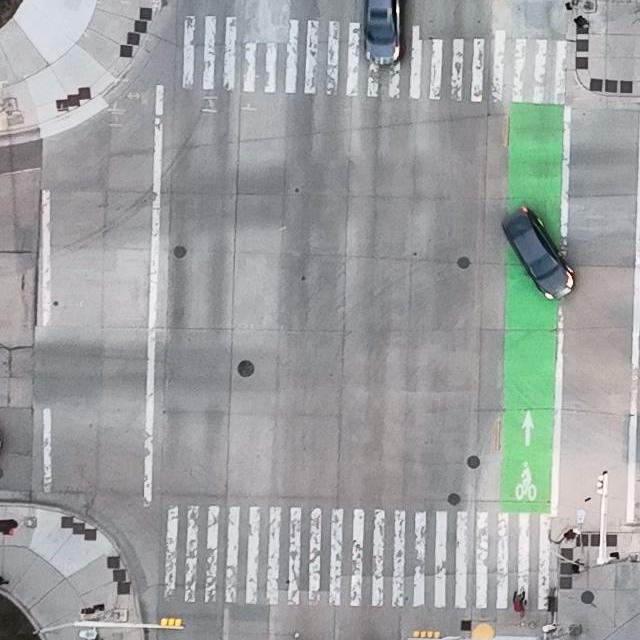car: (502, 205, 574, 300), (362, 0, 404, 66)
